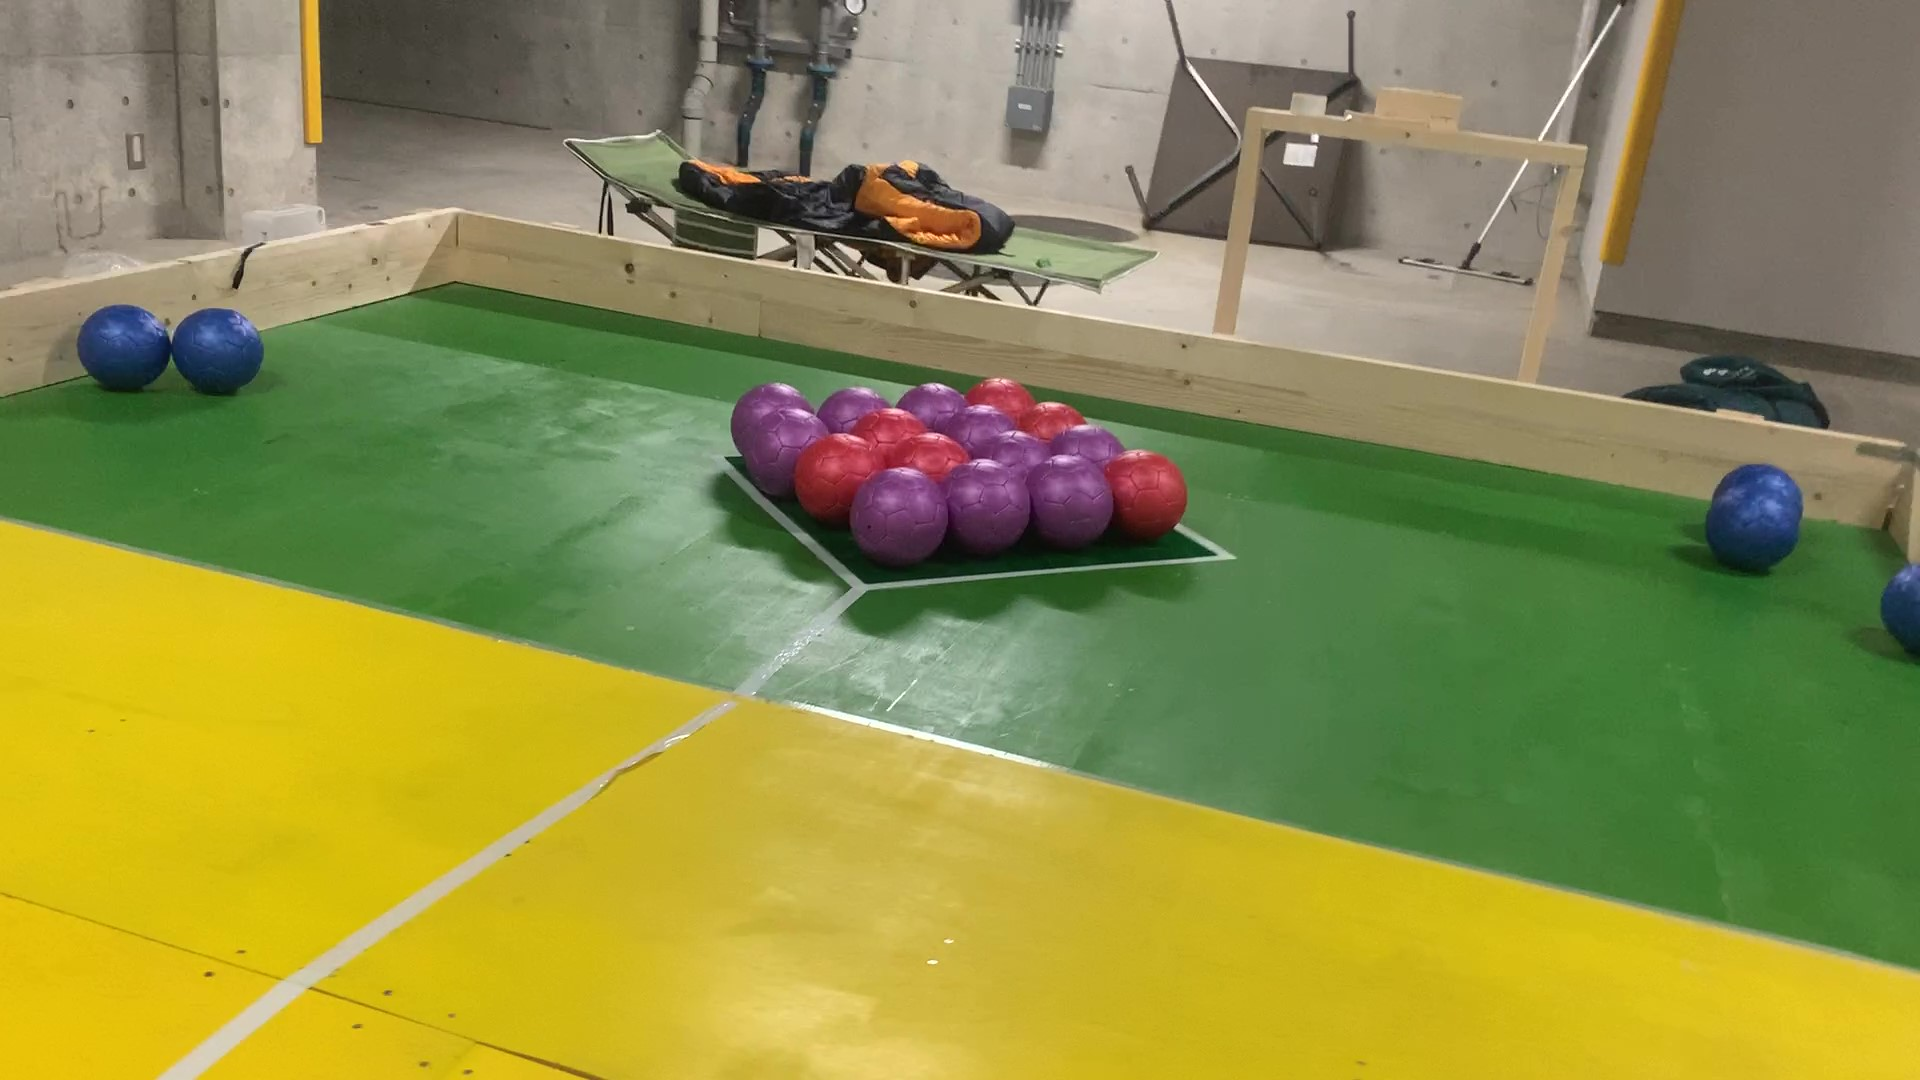blue: (82, 311, 162, 390), (174, 314, 258, 385), (1722, 491, 1788, 570), (1883, 566, 1915, 642), (1724, 460, 1792, 487)
purple: (868, 483, 931, 558), (957, 468, 1015, 550), (1046, 465, 1104, 545), (760, 414, 800, 496), (914, 384, 967, 421), (736, 388, 756, 462), (827, 384, 876, 411), (955, 414, 1004, 442), (998, 439, 1048, 465), (1064, 431, 1116, 455)
red: (1118, 451, 1180, 534), (811, 444, 852, 506), (864, 409, 916, 438), (980, 378, 1031, 405), (898, 443, 956, 463), (1031, 406, 1076, 429)
